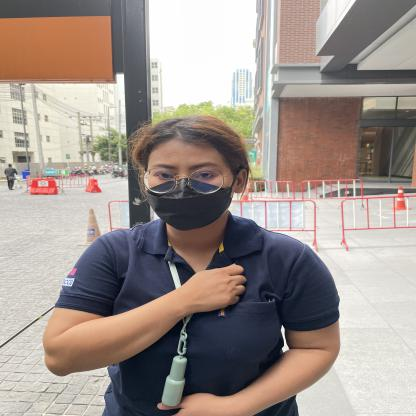Sadness: (130, 238, 272, 335)
